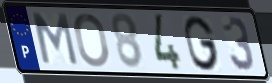3: (220, 15, 256, 74)
4: (153, 12, 184, 73)
8: (110, 11, 146, 71)
G: (182, 14, 222, 73)
M: (30, 11, 80, 68)
O: (72, 12, 112, 69)
